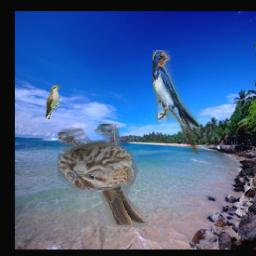Cuckoo: (46, 86, 62, 120)
Sparrow: (57, 125, 147, 228)
Swallow: (153, 50, 200, 155)
